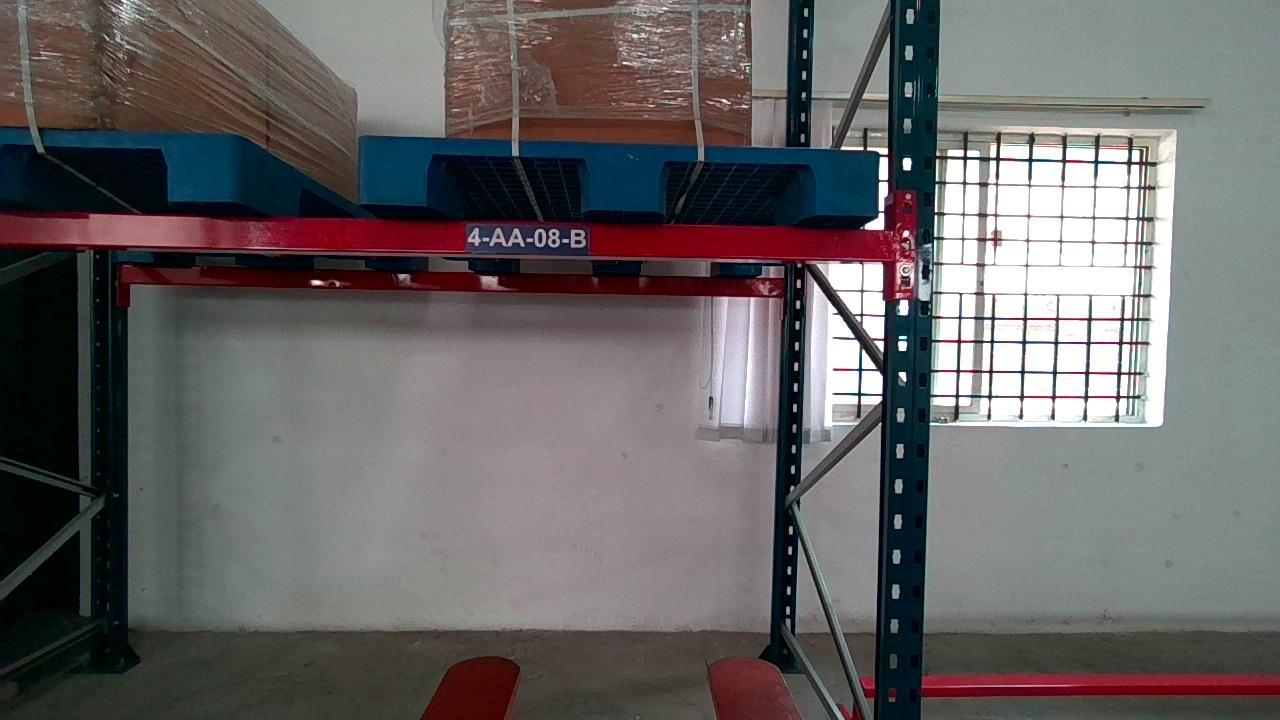h_rack: (0, 213, 896, 259)
small_pallet: (358, 136, 878, 216)
